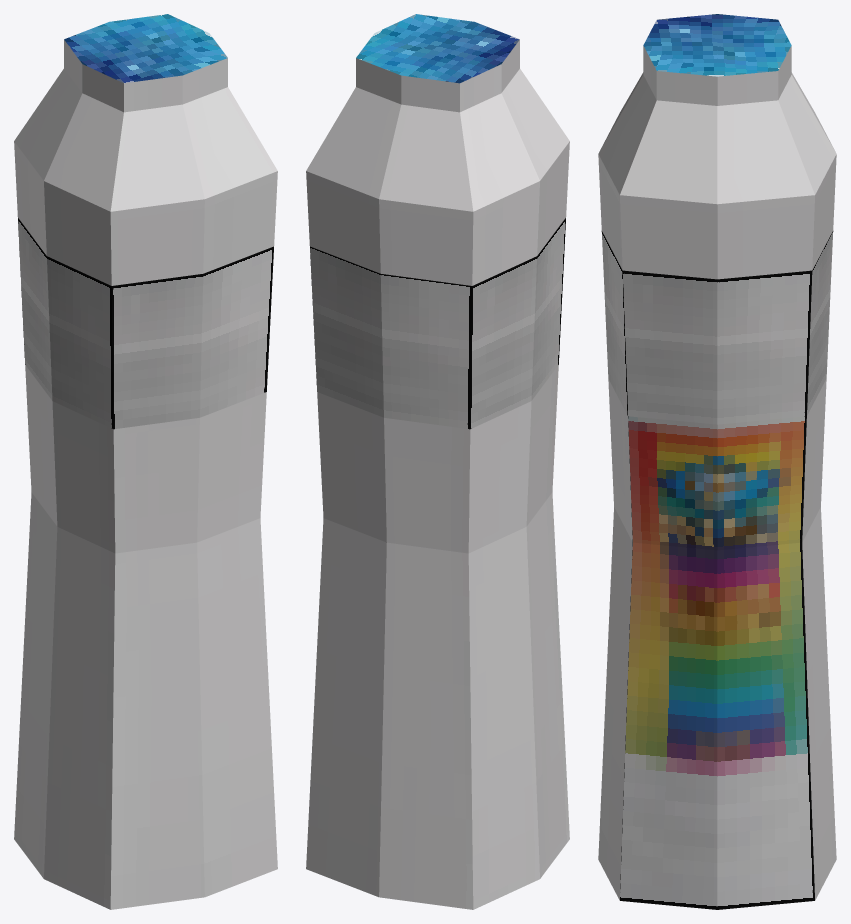
The model's file is dauber.glb.
The picture shows the model from 3 angles, left to right: view 1: azimuth 30°, elevation 25°; view 2: azimuth 150°, elevation 25°; view 3: azimuth 270°, elevation 25°; orthographic projection.
Visible parts, largest first — view 1: Dauber; view 2: Dauber; view 3: Dauber.
Part boxes in pixels (bbox=[...]): Dauber: bbox=[14, 14, 277, 909]; Dauber: bbox=[306, 14, 569, 909]; Dauber: bbox=[598, 14, 836, 909].
Bounding box in the file's own units: 0.0297 × 0.1121 × 0.0297.
1 material, 1 textured.
